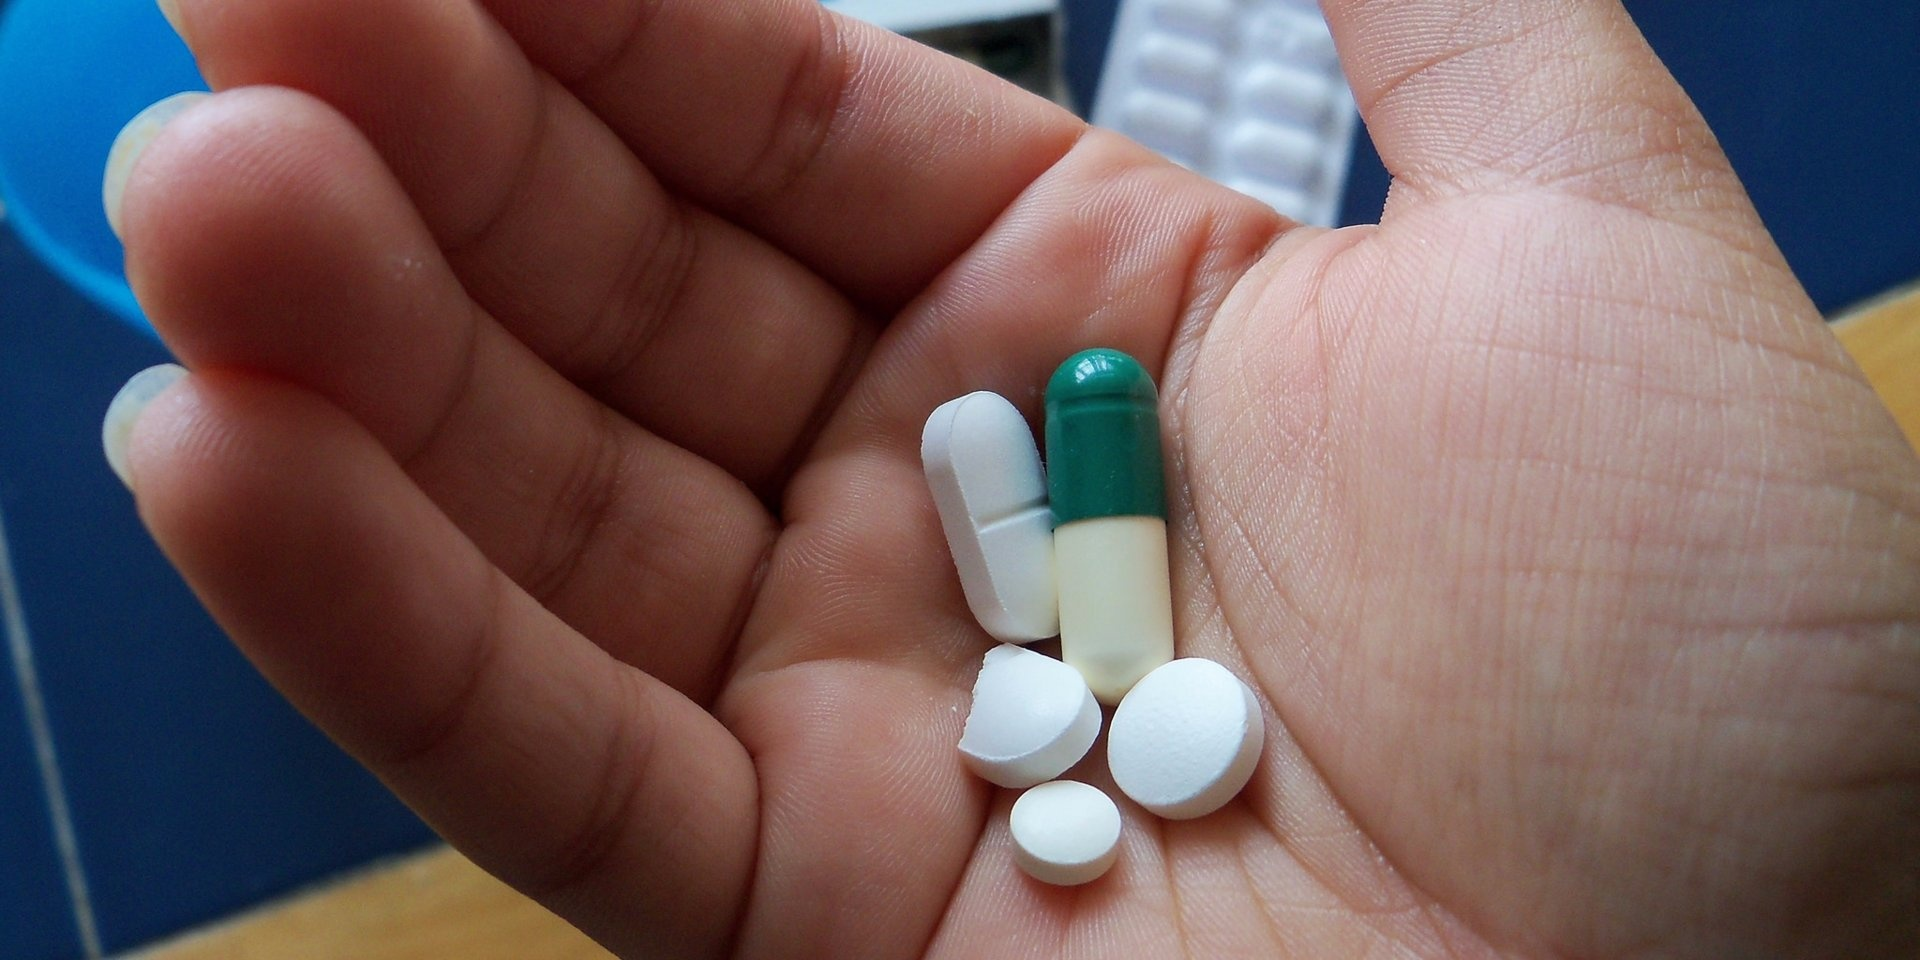pills: (1040, 348, 1176, 718), (915, 394, 1063, 640), (1107, 661, 1267, 817)
